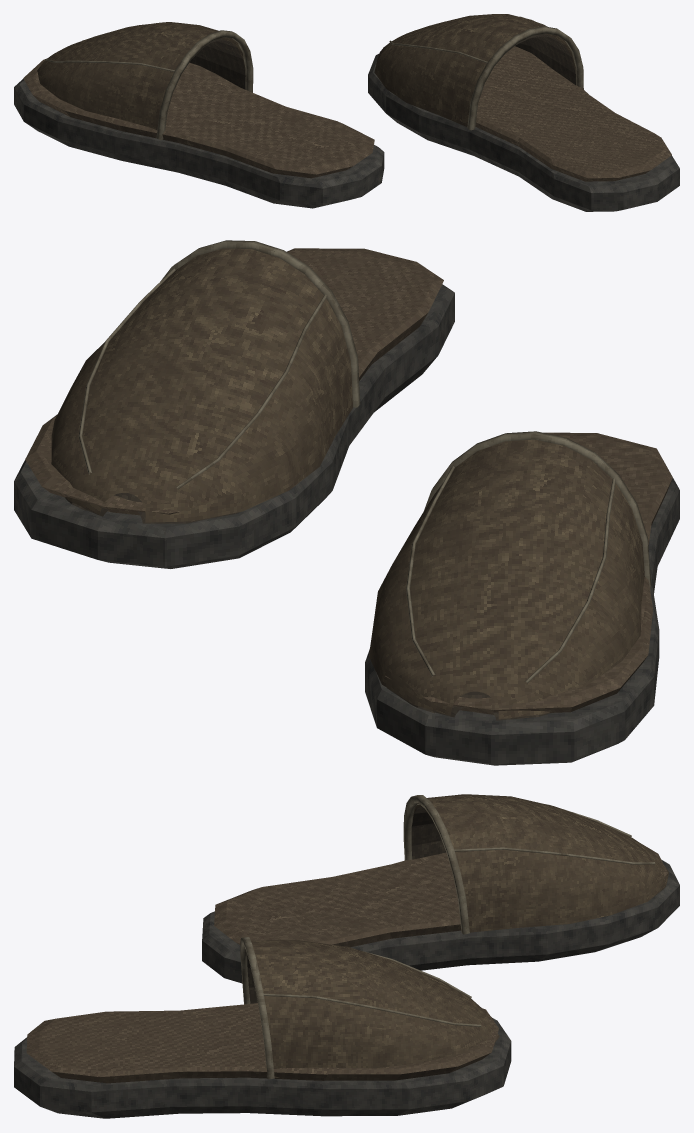
File: galley_slippers.glb
The picture shows the model from 3 angles, top to bottom: view 1: azimuth 30°, elevation 25°; view 2: azimuth 150°, elevation 25°; view 3: azimuth 270°, elevation 25°; orthographic projection. The views are drawn at different scales.
Parts seen in each view (by area): view 1: Slippers; view 2: Slippers; view 3: Slippers.
Boxes of the visible parts, bbox=[...] form: Slippers: bbox=[14, 14, 679, 211]; Slippers: bbox=[14, 240, 679, 765]; Slippers: bbox=[14, 794, 679, 1118].
Size of the model in its own units: 0.3431 by 0.0861 by 0.3802.
Materials: 5 (5 with a texture image).
